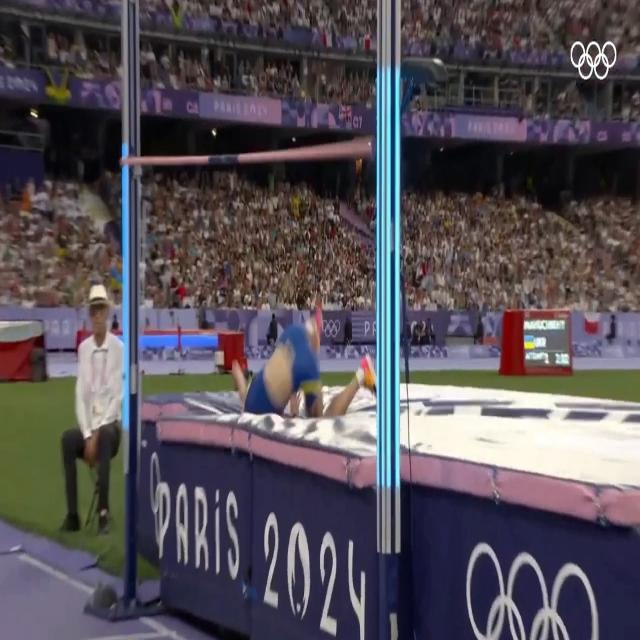land: (232, 317, 376, 418)
